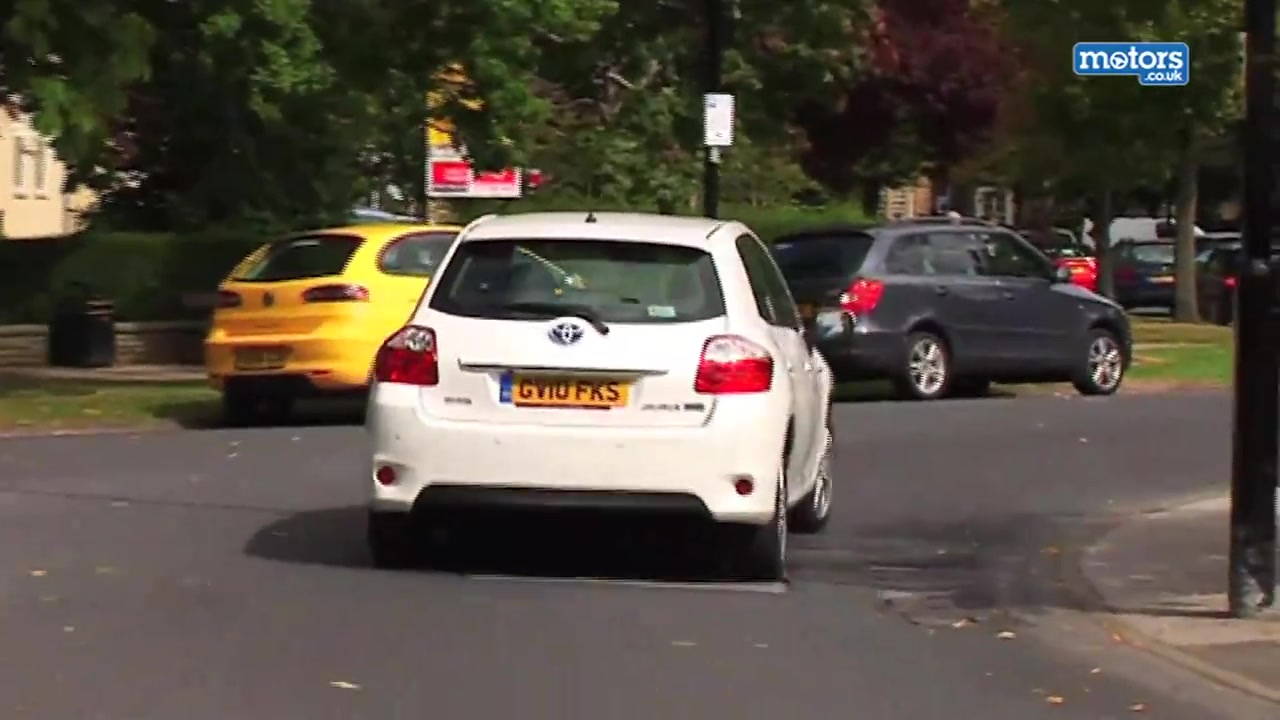car: (363, 207, 856, 574), (204, 216, 616, 427), (781, 216, 1138, 403), (1003, 226, 1108, 297), (1101, 238, 1184, 312), (1191, 243, 1248, 324)
